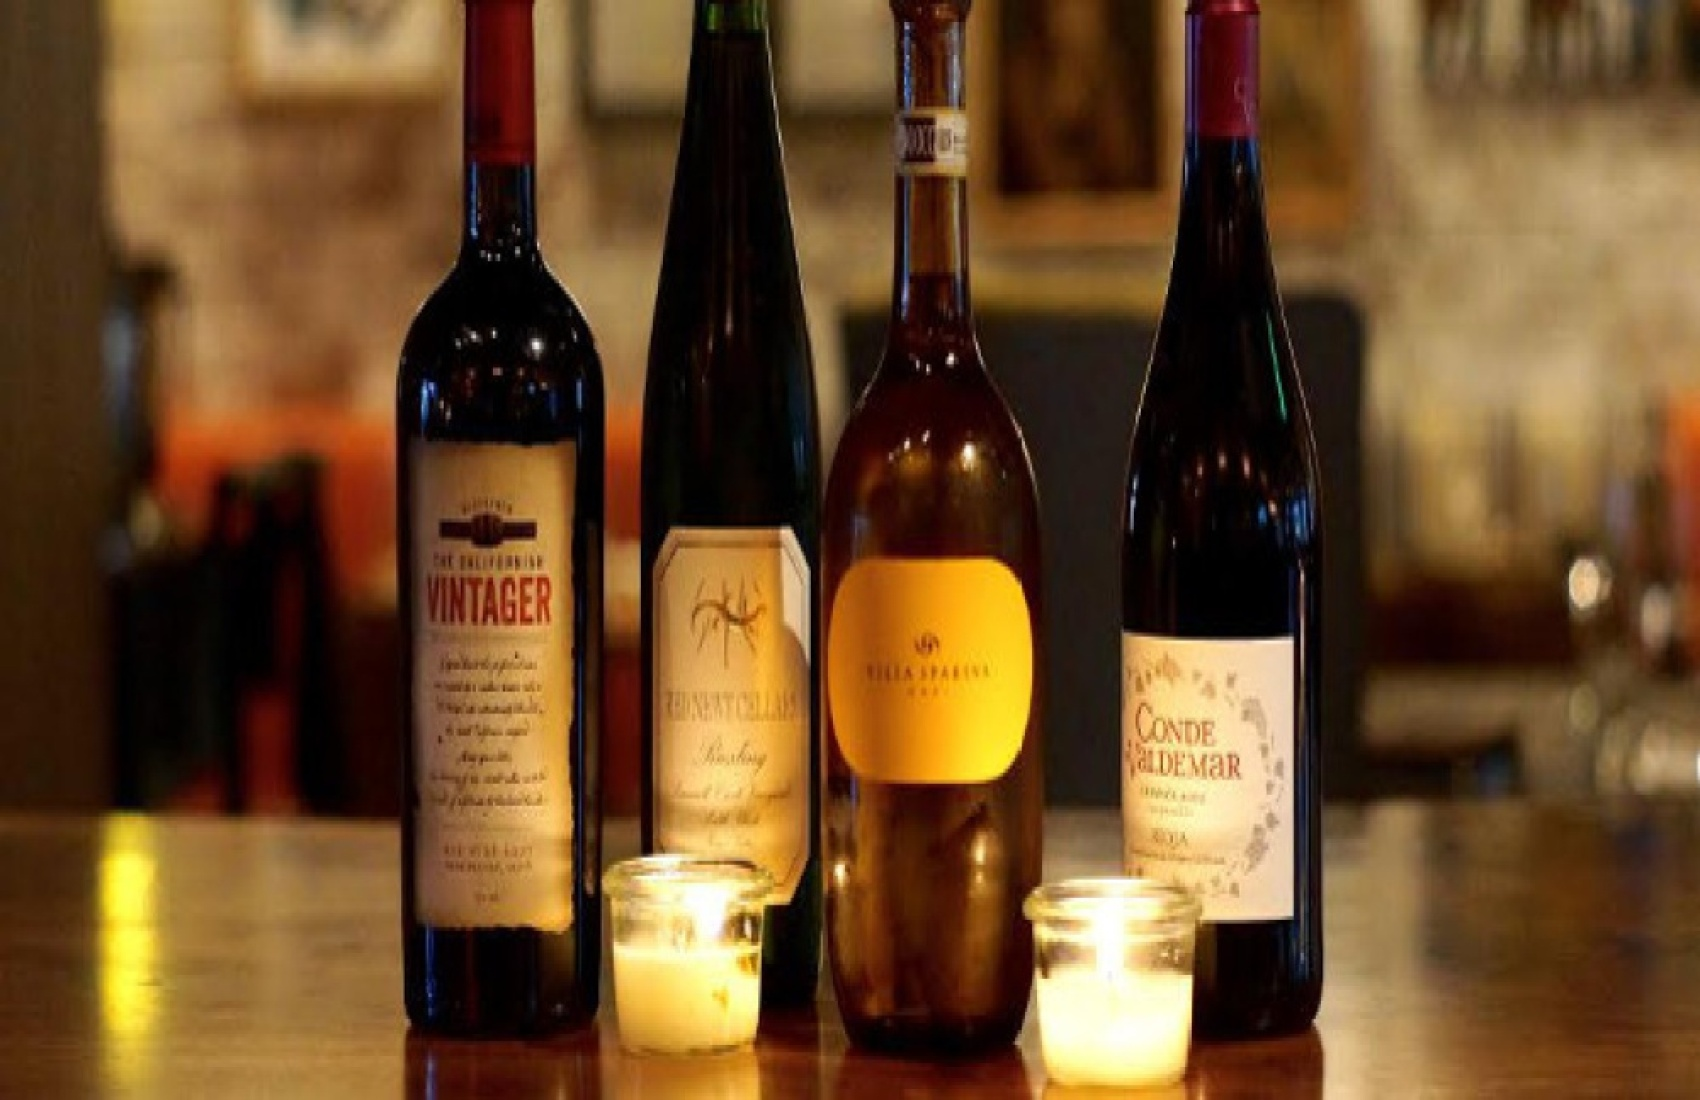wine: (398, 47, 594, 1015), (1124, 24, 1320, 991), (629, 20, 825, 987), (844, 32, 1040, 998)
